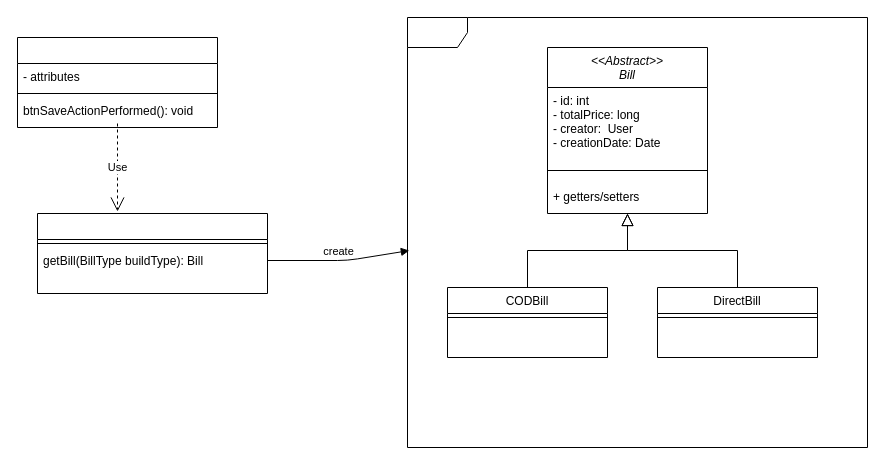
This 885x465 diagram has some shape labels left out. Here are the shapes that lost their labels. From the top down, the box of each, then its label:
(16, 36, 218, 128): BillJFrame
(36, 212, 268, 294): BillFactory
